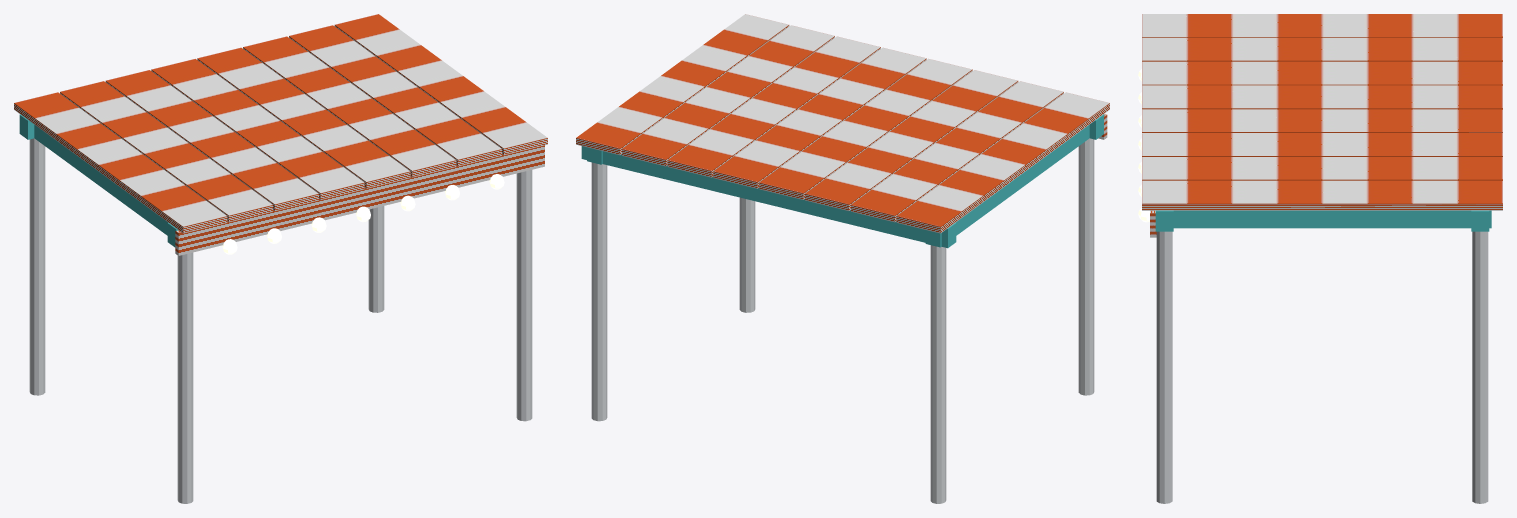
File: theme-park-rides-and-coasters-theme-park-rides-and-coa-925aabfb__28669.glb
3 views of the same model, side by side, from view 1: azimuth 30°, elevation 25°; view 2: azimuth 150°, elevation 25°; view 3: azimuth 270°, elevation 25° (orthographic). The views are drawn at different scales.
Visible parts, largest first — view 1: theme-park-rides-and-coasters-queue-canopy-bay; view 2: theme-park-rides-and-coasters-queue-canopy-bay; view 3: theme-park-rides-and-coasters-queue-canopy-bay.
Boxes of the visible parts, left/top/right/bottom form: theme-park-rides-and-coasters-queue-canopy-bay: left=14, top=14, right=547, bottom=503; theme-park-rides-and-coasters-queue-canopy-bay: left=576, top=14, right=1109, bottom=503; theme-park-rides-and-coasters-queue-canopy-bay: left=1138, top=14, right=1502, bottom=503.
Bounding box in the file's own units: 4 × 2.97 × 3.24.
Materials: 4 (1 with a texture image).
